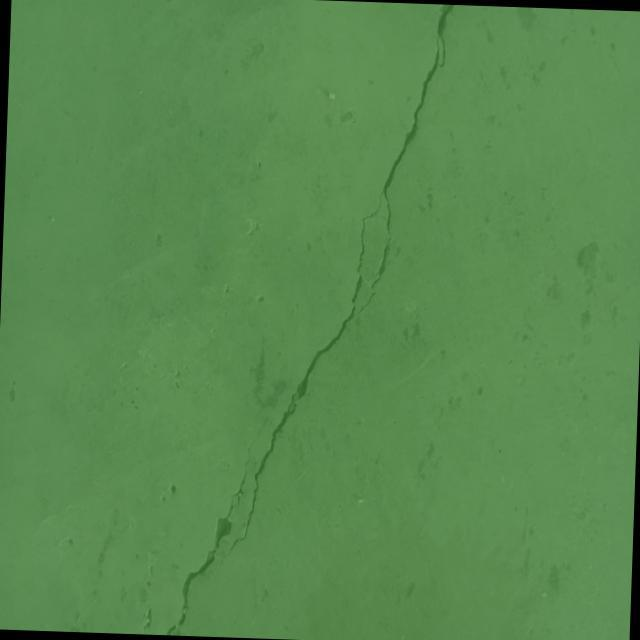crack: (218, 0, 455, 573), (166, 426, 260, 638)
